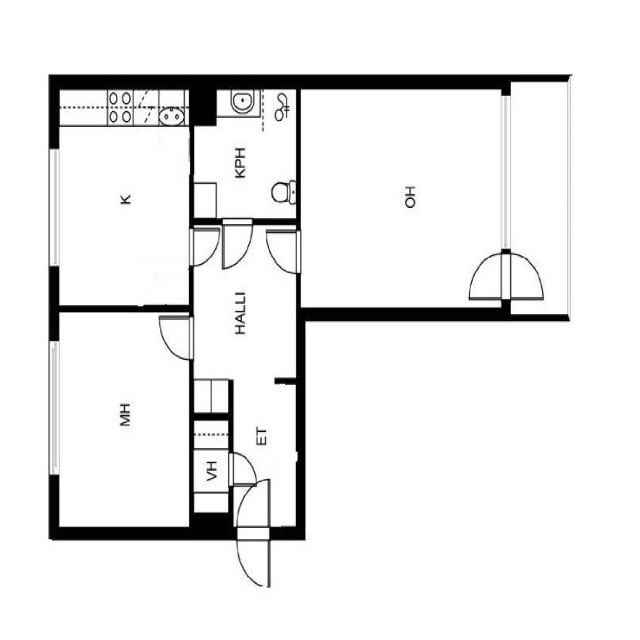door: (193, 82, 300, 221), (232, 473, 277, 592), (465, 250, 551, 302), (191, 420, 237, 517), (155, 309, 197, 364), (264, 223, 305, 277), (220, 217, 254, 272), (185, 223, 223, 269), (225, 447, 261, 492)
window: (495, 89, 520, 257), (40, 330, 66, 482), (41, 141, 65, 277)
zone: (297, 85, 506, 318), (52, 305, 192, 535), (53, 92, 193, 310), (192, 223, 297, 384), (193, 83, 300, 223), (232, 384, 300, 530), (192, 416, 230, 525), (264, 225, 304, 277)
